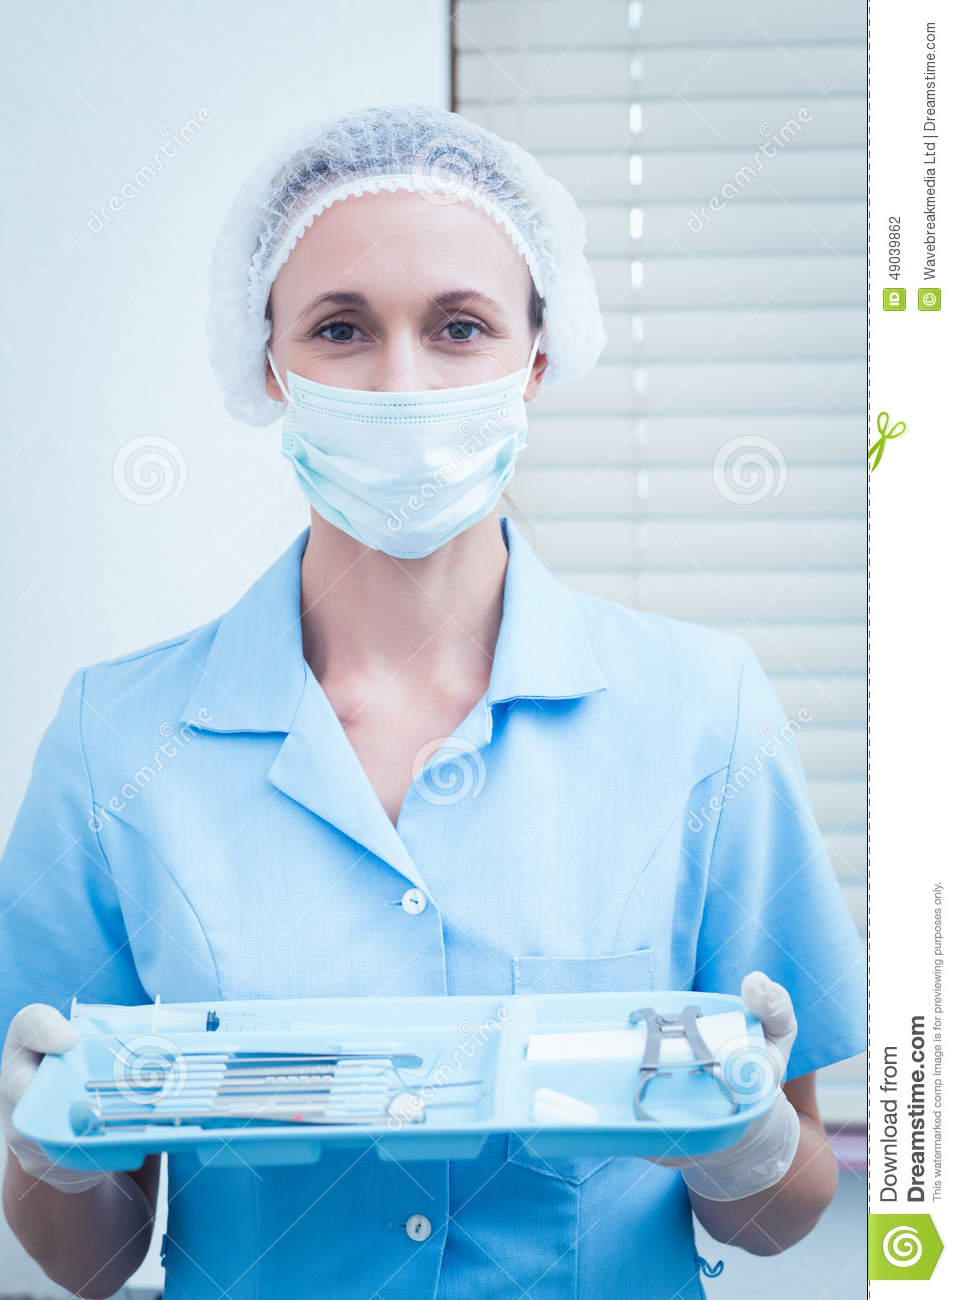mask: (276, 373, 536, 575)
